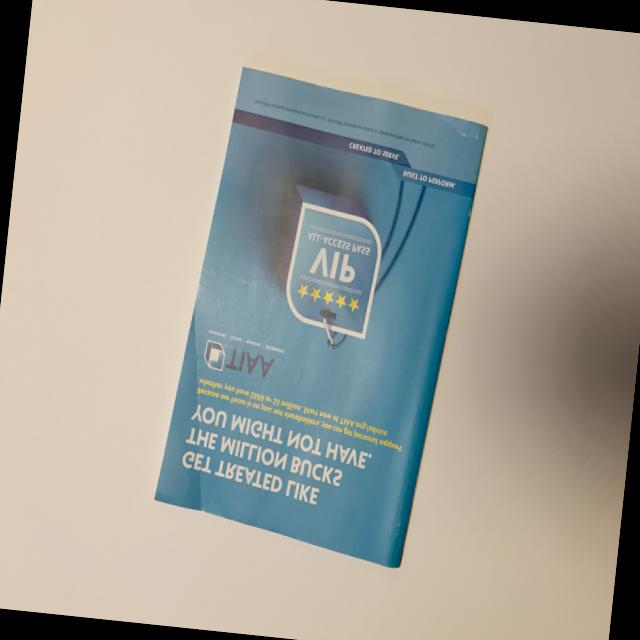Paper: (132, 54, 504, 614)
